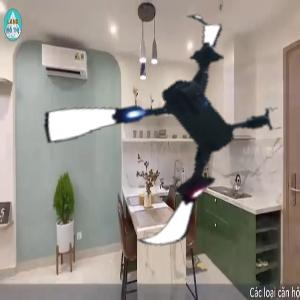drone: (47, 18, 289, 260)
